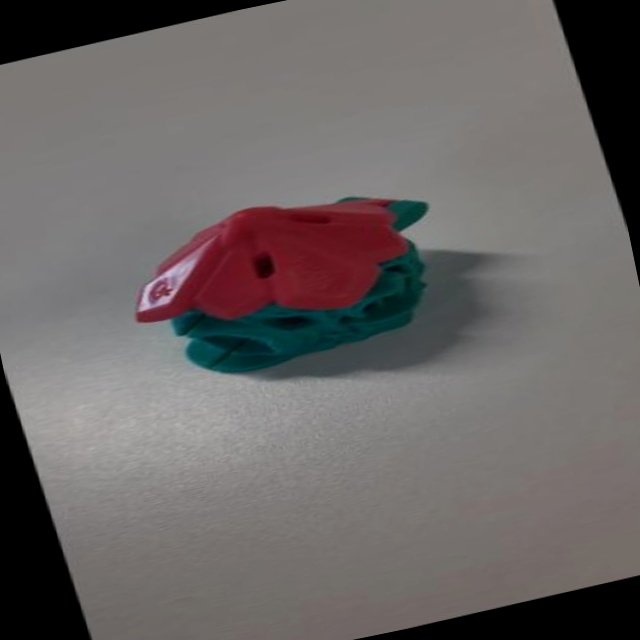House: (96, 161, 480, 416)
